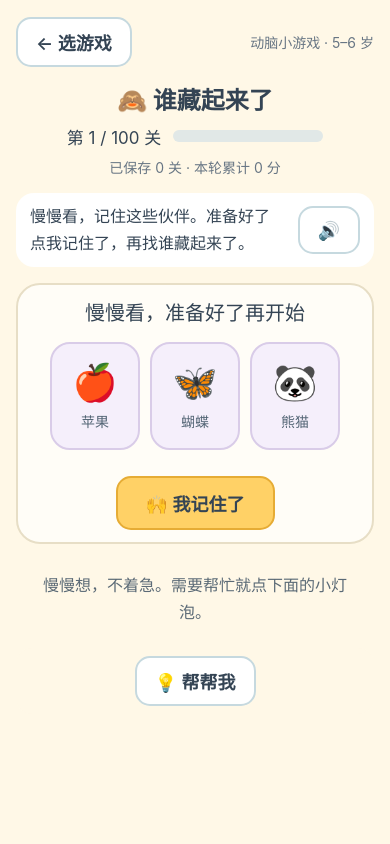
Test: GamePuzzle › waits for the child to start recalling and lets them peek after an incorrect answer
expect the element named "记忆物品" is shown: met, box [30,342,360,450]
Click the button "🙌 我记住了".
click(195, 503)  # box [116,476,274,530]
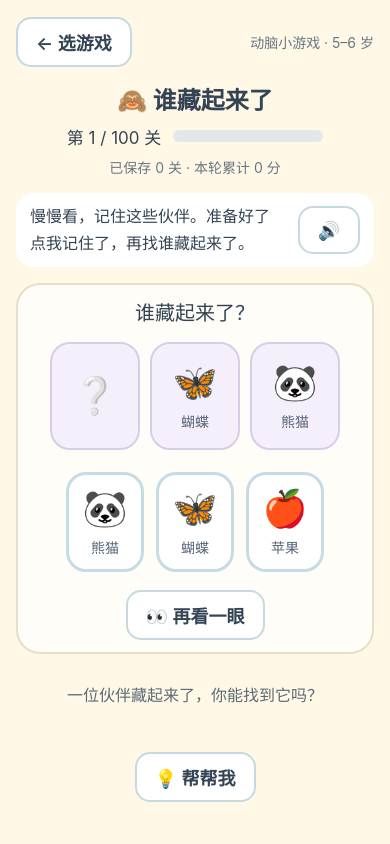
Click the button "🐼 熊猫".
click(105, 522)  # box [66,472,144,572]
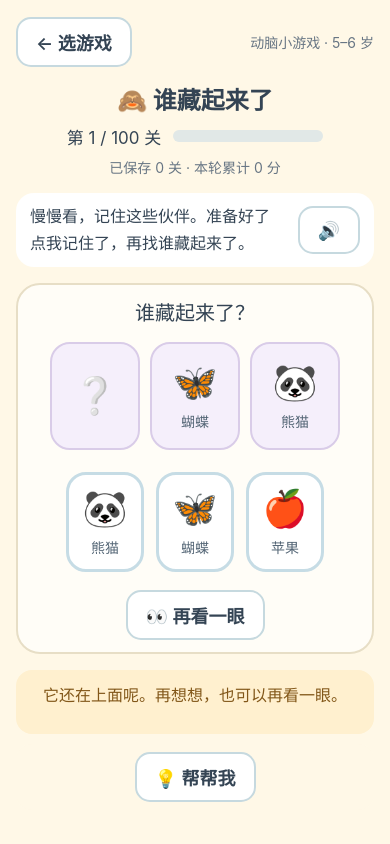
expect the message shows "它还在上面呢": met, box [43,685,347,705]
Click the button "👀 再看一眼".
click(195, 615)  # box [126,590,264,640]
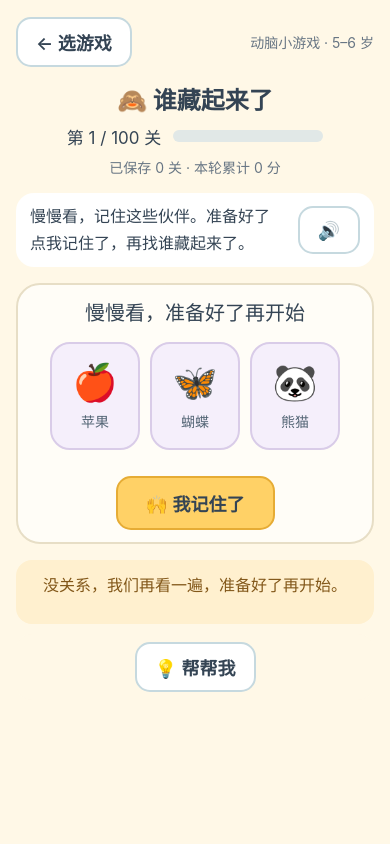
expect the text "苹果" is shown: met, box [81,411,109,431]
Click the button "🙌 我记住了".
click(195, 503)  # box [116,476,274,530]
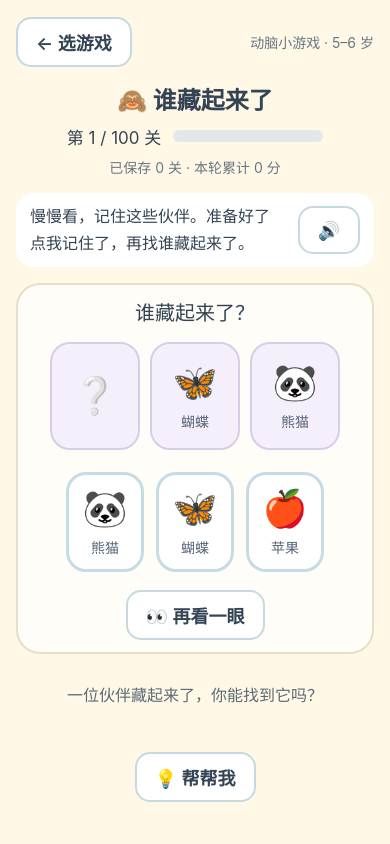
Click the button "🍎 苹果".
click(285, 522)  # box [246,472,324,572]
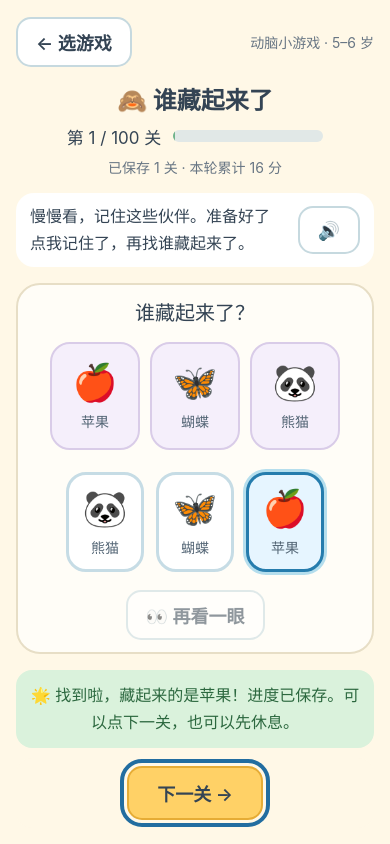
expect the button "下一关 →" is shown: met, box [127,766,263,820]
